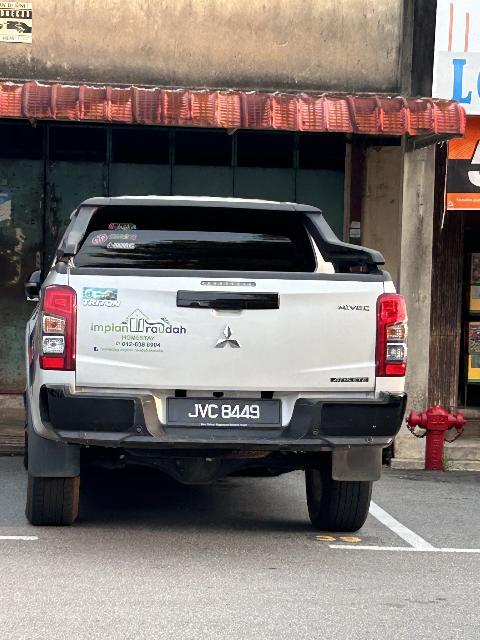License_Plate: (165, 398, 287, 428)
car: (13, 191, 408, 537)
jvc8449: (165, 398, 287, 428)
